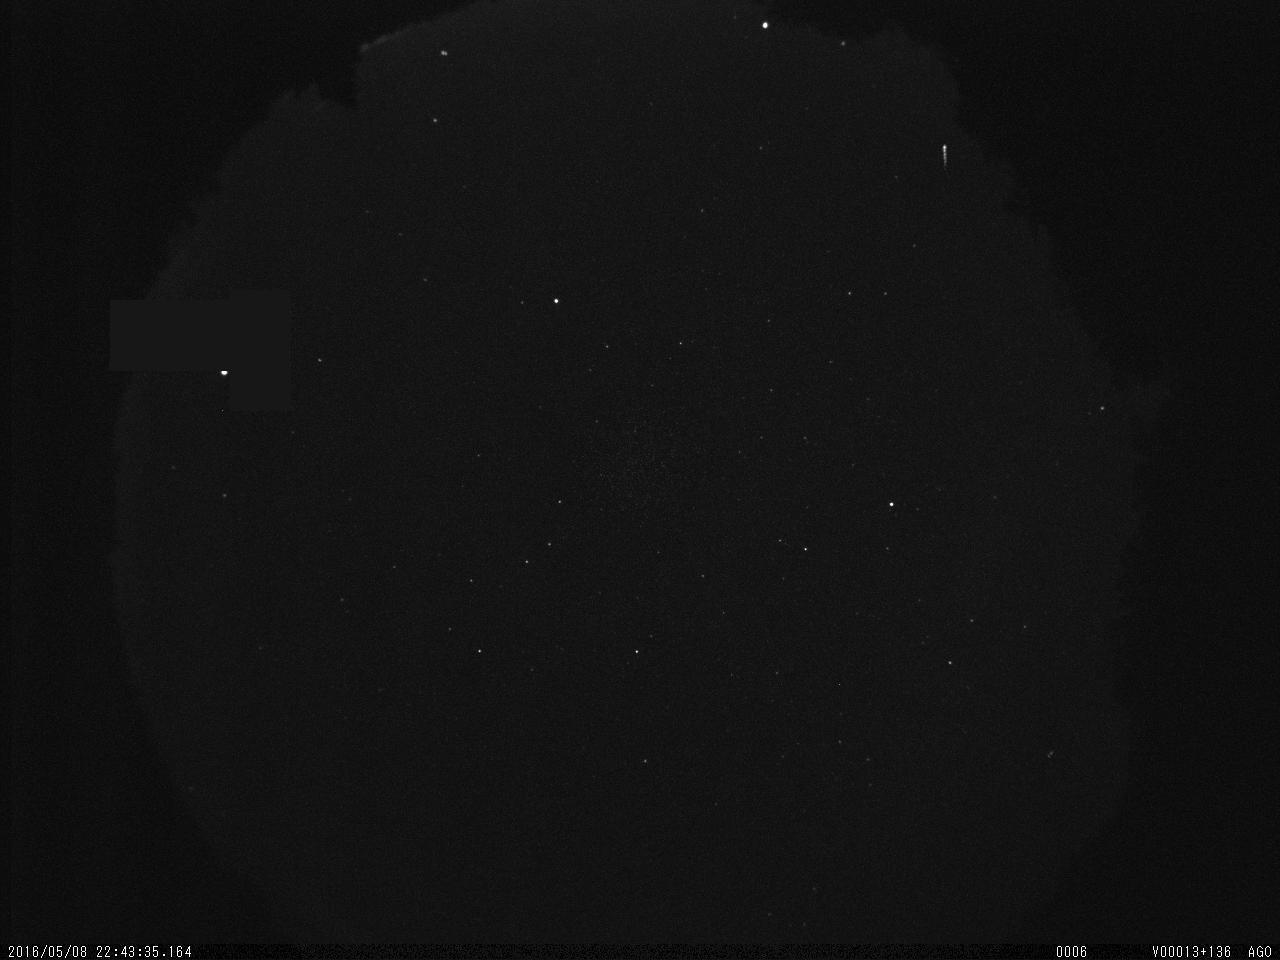meteor: (935, 134, 959, 185)
